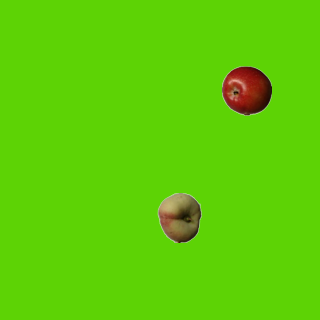Apple Braeburn: (221, 65, 271, 115)
Peach Flat: (154, 192, 204, 242)
